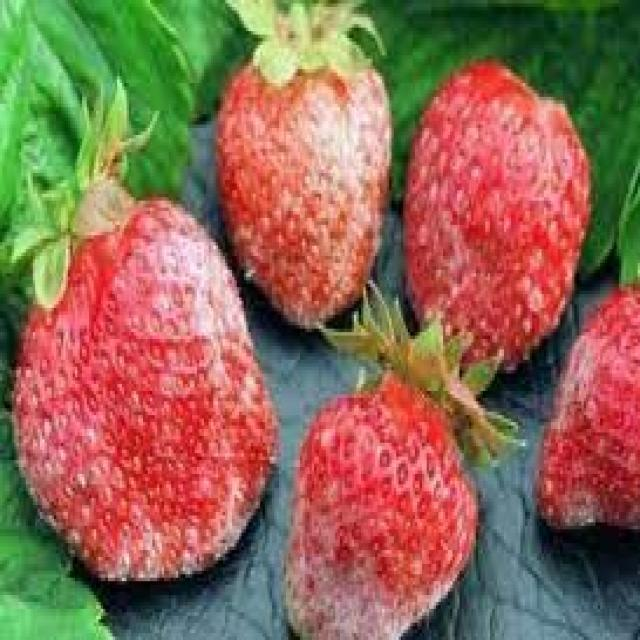Oído: (8, 197, 272, 580), (403, 52, 591, 379), (214, 11, 390, 330), (282, 363, 478, 640), (536, 285, 639, 540)
